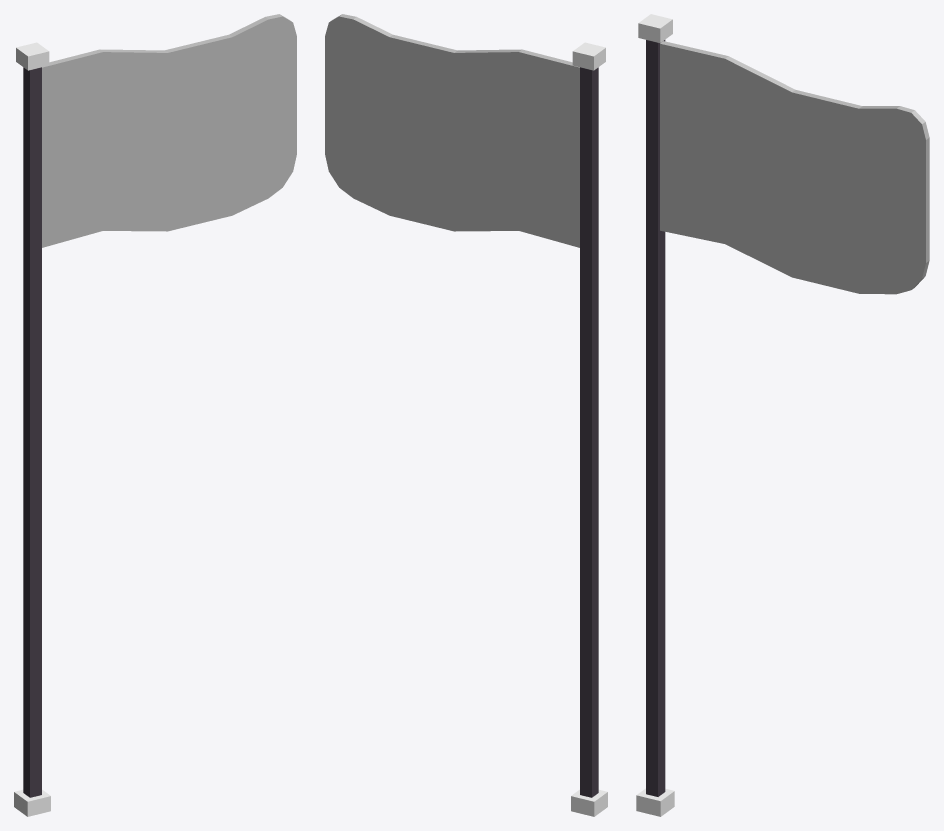
File: Flag2.fbx
3 views of the same model, side by side, from view 1: azimuth 30°, elevation 25°; view 2: azimuth 150°, elevation 25°; view 3: azimuth 330°, elevation 25° (orthographic). The views are drawn at different scales.
Visible parts, largest first — view 1: Flag2; view 2: Flag2; view 3: Flag2.
Boxes of the visible parts, left/top/right/bottom form: Flag2: left=14, top=14, right=296, bottom=816; Flag2: left=325, top=14, right=607, bottom=816; Flag2: left=636, top=14, right=929, bottom=816.
Bounding box in the file's own units: 163 × 431 × 13.95.
